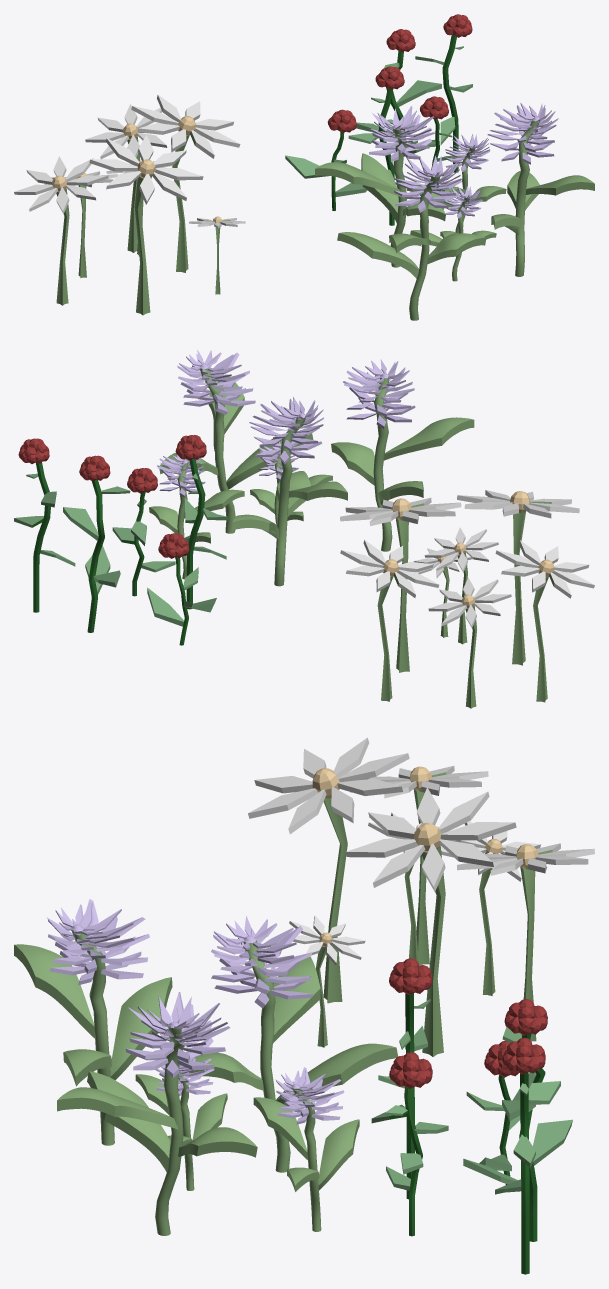
The model's file is flowers.fbx.
3 renders of one model, top to bottom at view 1: azimuth 30°, elevation 25°; view 2: azimuth 150°, elevation 25°; view 3: azimuth 270°, elevation 25°, orthographic. The views are drawn at different scales.
Visible parts, largest first — view 1: polySurface151 (×5), polySurface152 (×5), BigFlower6, BigFlower4, BigFlower1, BigFlower7, Bulb (×2), polySurface91, Petals, polySurface68, BigFlower2, BigFlower5 (+5 smaller); view 2: polySurface151 (×5), polySurface152 (×5), BigFlower6, BigFlower1, BigFlower7, BigFlower4, BigFlower2, BigFlower3, polySurface91, Bulb (×2), Petals, polySurface74 (+10 smaller); view 3: polySurface151 (×5), polySurface152 (×5), BigFlower4, BigFlower6, BigFlower7, BigFlower1, BigFlower5, polySurface91, BigFlower2, polySurface68, Petals3, Petals1 (+10 smaller).
Part boxes in pixels (<box>): polySurface151 (×5): <box>315,120,594,320</box>; polySurface152 (×5): <box>369,103,558,218</box>; BigFlower6: <box>89,134,203,315</box>; BigFlower4: <box>131,95,240,272</box>; BigFlower1: <box>14,156,108,305</box>; BigFlower7: <box>85,104,167,252</box>; Bulb (×2): <box>327,29,415,132</box>; polySurface91: <box>356,62,441,156</box>; Petals: <box>285,155,367,197</box>; polySurface68: <box>442,34,458,172</box>; BigFlower2: <box>44,171,118,278</box>; BigFlower5: <box>189,216,245,294</box>; polySurface151 (×5): <box>149,367,474,586</box>; polySurface152 (×5): <box>157,349,415,496</box>; BigFlower6: <box>457,490,579,665</box>; BigFlower1: <box>495,540,594,702</box>; BigFlower7: <box>340,540,439,701</box>; BigFlower4: <box>340,497,461,672</box>; BigFlower2: <box>428,577,511,708</box>; BigFlower3: <box>424,527,498,644</box>; polySurface91: <box>63,486,130,594</box>; Bulb (×2): <box>79,455,189,558</box>; Petals: <box>147,567,216,626</box>; polySurface74: <box>87,479,104,632</box>; polySurface151 (×5): <box>14,930,398,1235</box>; polySurface152 (×5): <box>47,899,344,1124</box>; BigFlower4: <box>345,787,516,1056</box>; BigFlower6: <box>248,737,409,1003</box>; BigFlower7: <box>457,843,594,1041</box>; BigFlower1: <box>350,766,488,965</box>; BigFlower5: <box>289,915,365,1047</box>; polySurface91: <box>463,1027,572,1184</box>; BigFlower2: <box>449,821,547,995</box>; polySurface68: <box>520,1072,529,1274</box>; Petals3: <box>495,1081,560,1194</box>; Petals1: <box>385,1105,448,1190</box>.
Size of the model in its own units: 19.8 by 6.31 by 13.63.
